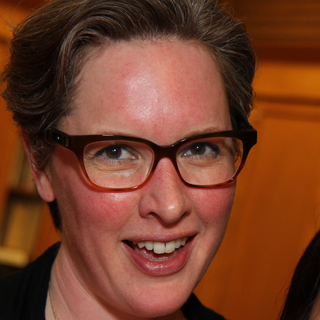eye: (94, 142, 141, 165), (182, 139, 226, 162)
